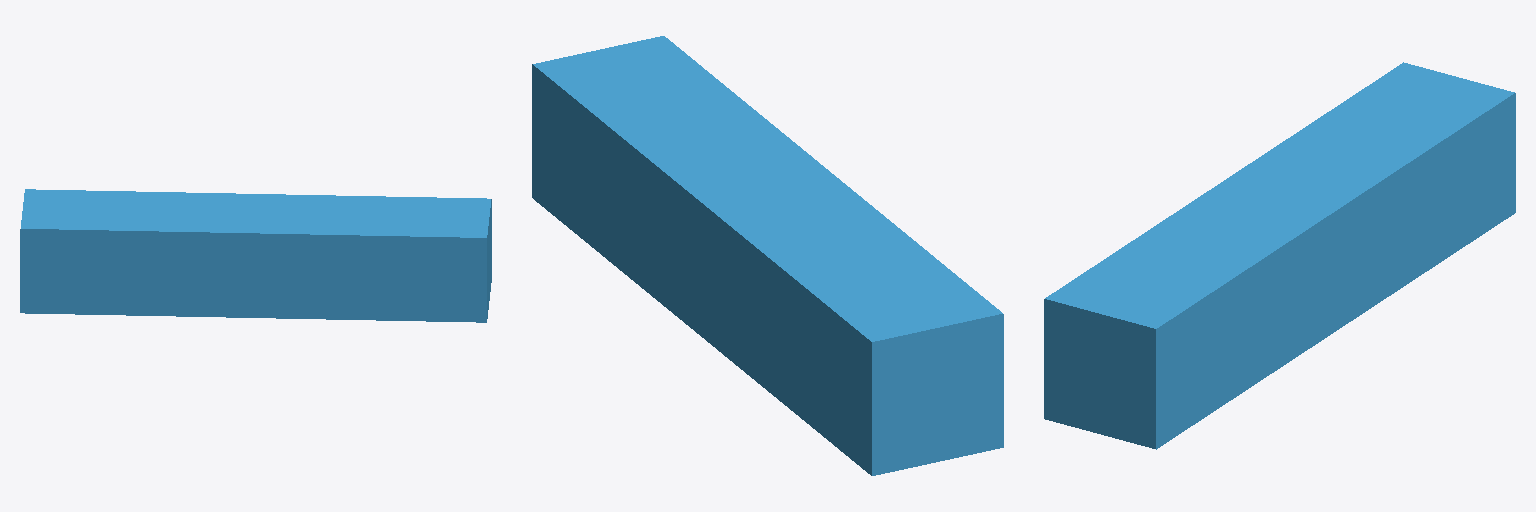
URDF robot description (single_joint):
<?xml version="1.0" ?>

<robot name="single_joint">
  <gazebo reference="base">
    <material>Gazebo/GrassFloor</material>
  </gazebo>
  <link name="world"/>
  <joint name="link_joint" type="continuous">
    <axis xyz="0 0 1"/>
    <parent link="world"/>
    <origin rpy="0 0 0" xyz="0 0 1"/>
    <child link="link"/>
    <dynamics damping="0.1"/>
  </joint>
  <link name="link">
    <inertial>
      <mass value="10"/>
      <origin xyz="0 0 0"/>
      <inertia ixx="1.0" ixy="0.0" ixz="0.0" iyy="0.1" iyz="0.0" izz="0.1"/>
    </inertial>
    <visual>
      <origin rpy="0 0 1" xyz="0 0 0"/>
      <geometry>
        <box size="0.2 1.0 0.2"/>
      </geometry>
    </visual>
    <collision>
      <origin rpy="0 0 1" xyz="0 0 0"/>
      <geometry>
        <box size="0.2 1.0 0.2"/>
      </geometry>
    </collision>
  </link>
  <gazebo reference="link">
    <material>Gazebo/GrassFloor</material>
    <turnGravityOff>true</turnGravityOff>
  </gazebo>
</robot>

--- Facts derived from the render (not from the file) ---
The picture shows the robot from 3 angles, left to right: view 1: azimuth 30°, elevation 25°; view 2: azimuth 150°, elevation 25°; view 3: azimuth 270°, elevation 25°; orthographic projection.
Robot: single_joint — 2 links, 1 joints (1 continuous); root link world; default pose: all joints at 0.
Visible links, largest first — view 1: link; view 2: link; view 3: link.
Link boxes in pixels (bbox=[...]): link: bbox=[20, 189, 491, 322]; link: bbox=[532, 36, 1003, 475]; link: bbox=[1044, 62, 1515, 449].
Size in the robot's own frame: 0.9495 by 0.7086 by 0.2 metres.
Geometry: primitives only (box / cylinder / sphere), no mesh files.
